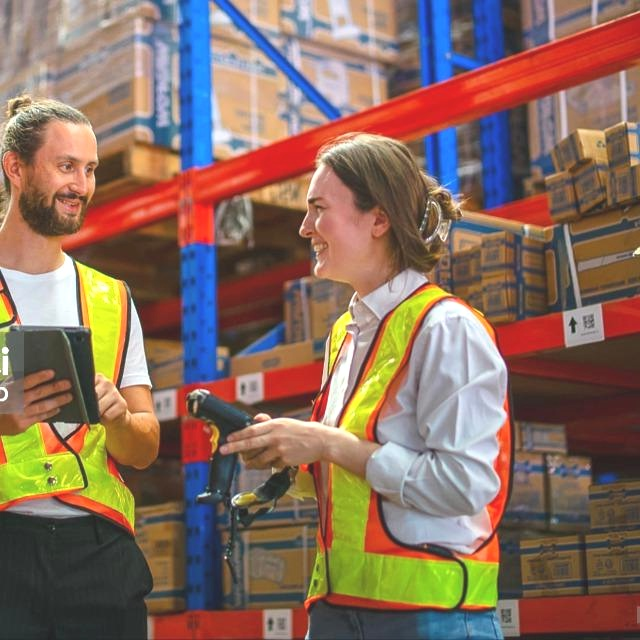Con_Chaleco: (304, 274, 514, 609), (0, 244, 142, 528)
Sin_Casco_Mascarrilla: (297, 131, 450, 287), (0, 98, 102, 238)
